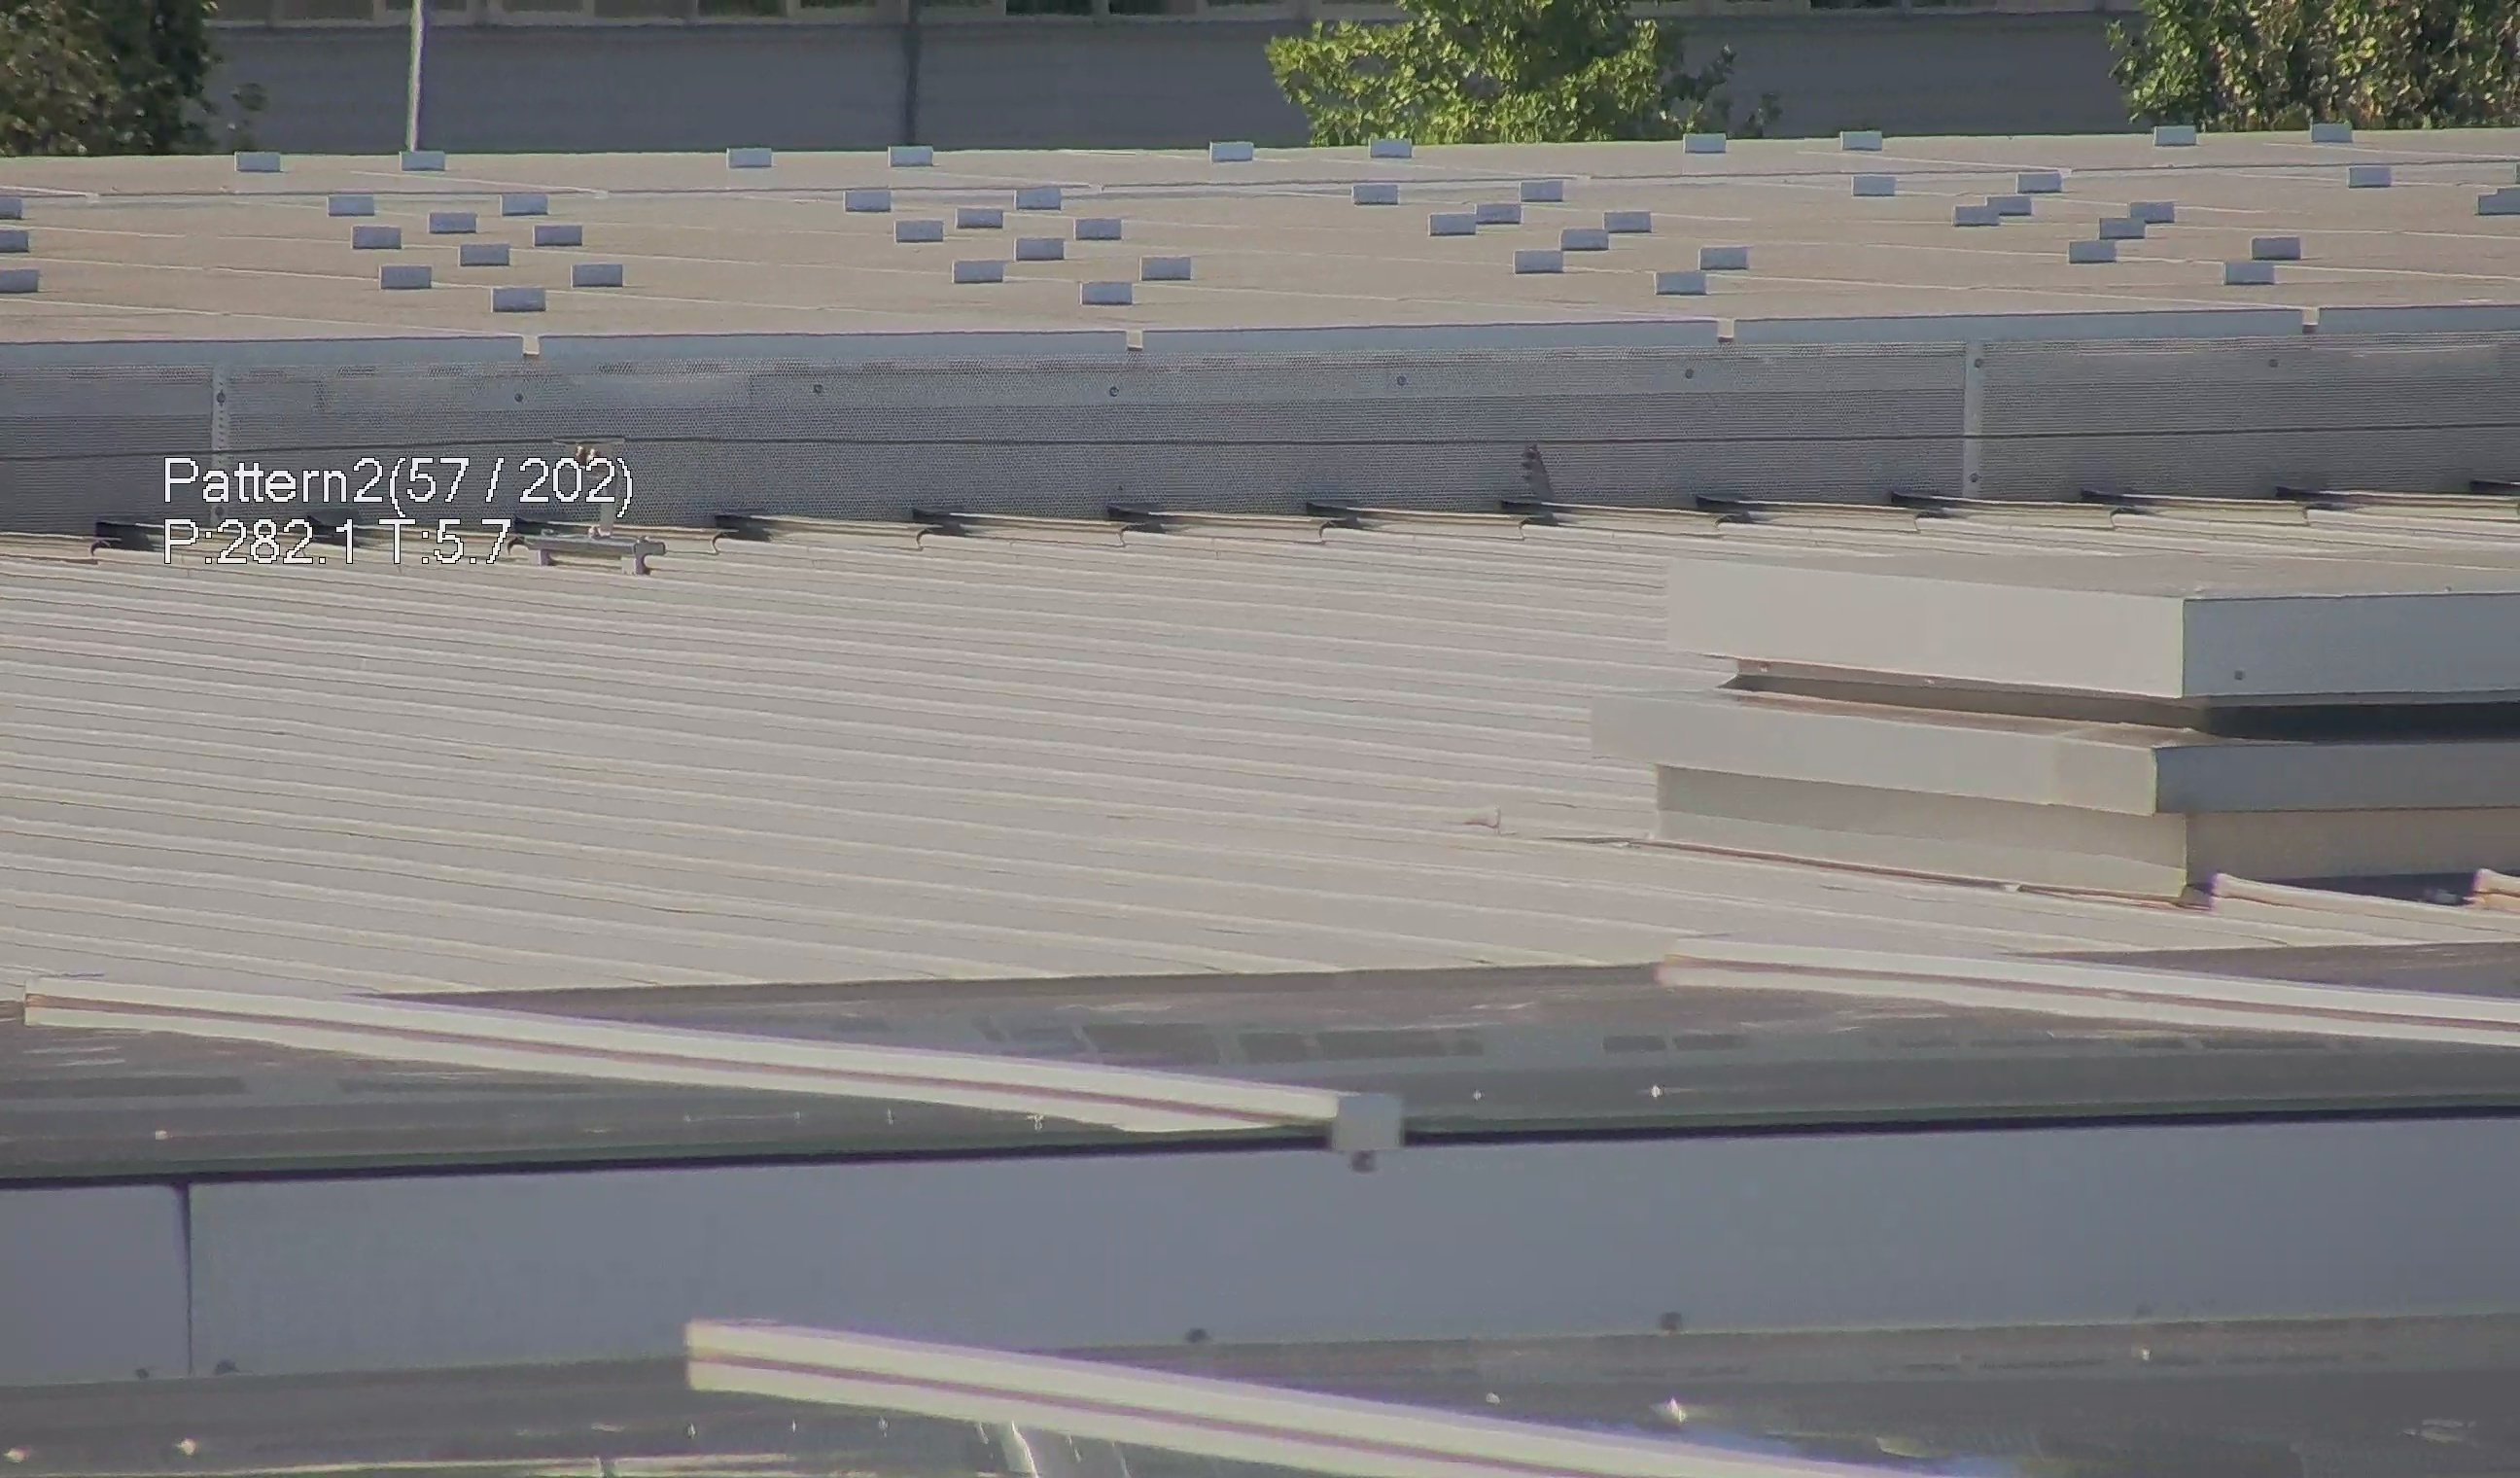Other: (1504, 413, 1583, 528)
